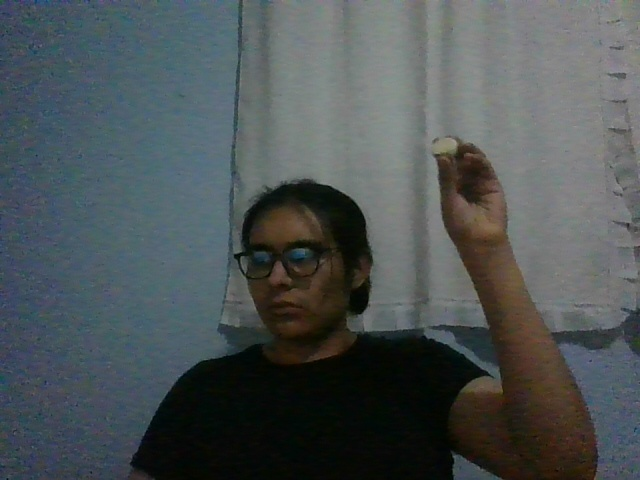goma: (432, 138, 458, 157)
